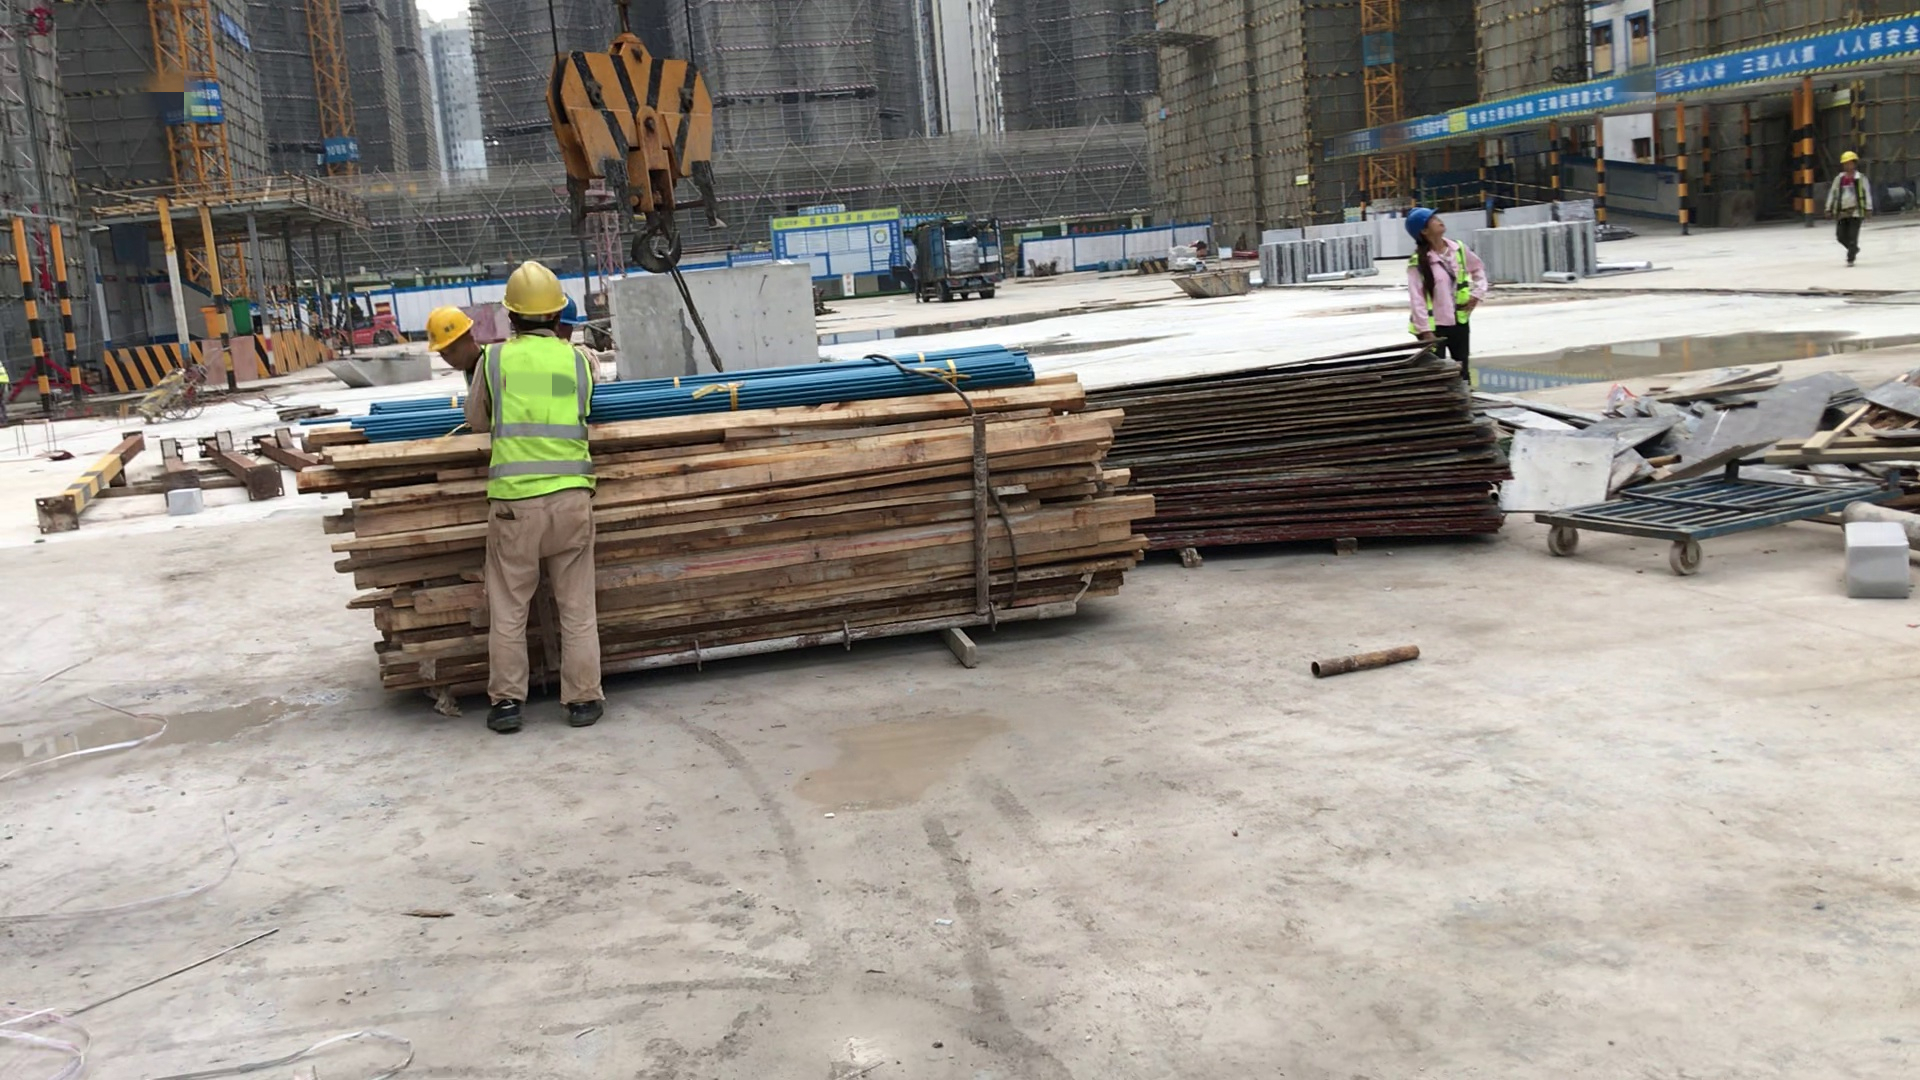board: (1125, 339, 1500, 578)
brick: (1452, 209, 1552, 251), (1361, 216, 1410, 264)
handcart: (1526, 459, 1853, 566), (139, 343, 225, 421)
helmet: (498, 258, 576, 326), (420, 305, 481, 361), (1404, 205, 1438, 235), (1835, 150, 1861, 164)
hook: (546, 36, 734, 273)
hopper: (320, 345, 428, 393), (1175, 268, 1253, 293)
person: (470, 258, 613, 749), (1400, 200, 1489, 384), (1826, 148, 1874, 262)
slogan: (1722, 9, 1917, 76), (166, 73, 226, 129), (317, 134, 366, 171)
vest: (481, 337, 594, 497), (1453, 243, 1474, 331)
wood: (363, 373, 1100, 713)
